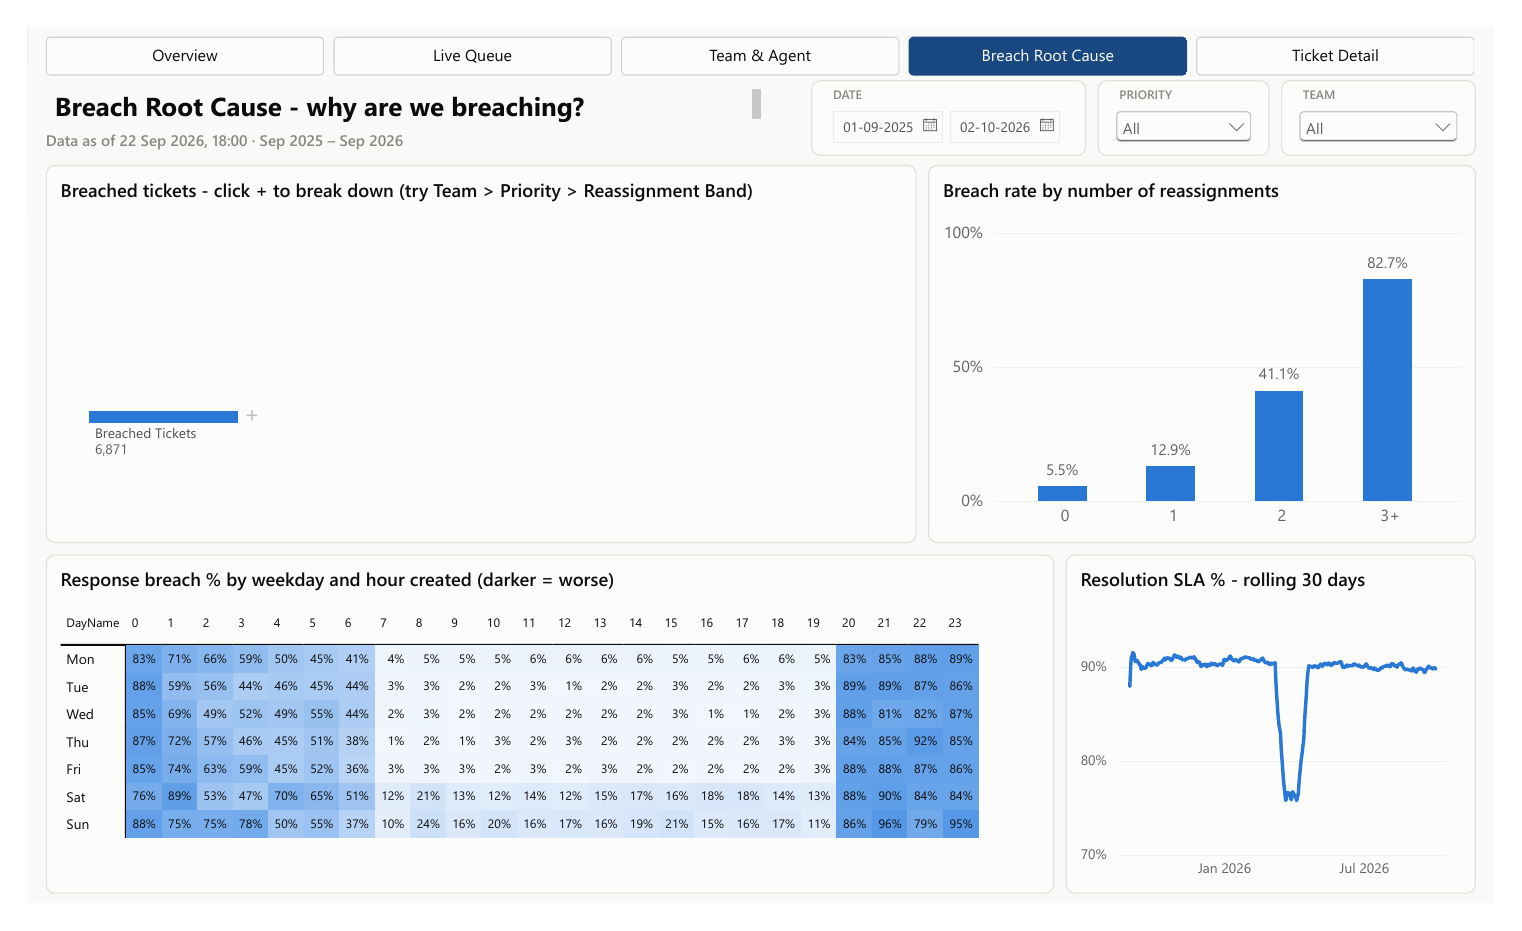

What the dashboard file says about the page in this screenshot:
{"tool":"powerbi","page":{"name":"Breach Root Cause","canvas":[1280,764],"ordinal":3},"visuals":[{"type":"pageNavigator","box":[16,8,1248,34],"z":1000},{"type":"textbox","box":[12,44,640,46],"z":2000},{"type":"cardVisual","fields":{"Data":["_Measures.As Of Label"]},"box":[12,82,560,30],"z":3000},{"type":"slicer","fields":{"Values":["DimDate.Date"]},"box":[684,46,240,66],"z":4000},{"type":"slicer","fields":{"Values":["DimPriority.Priority"]},"box":[934,46,150,66],"z":5000},{"type":"slicer","fields":{"Values":["DimTeam.Team"]},"box":[1094,46,170,66],"z":6000},{"type":"decompositionTreeVisual","title":"Breached tickets - click + to break down (try Team > Priority > Reassignment Band)","fields":{"Analyze":["_Measures.Breached Tickets"],"ExplainBy":["DimTeam.Team","DimPriority.PriorityShort","DimCategory.SubCategory","FactTickets.Reassignment Band","FactTickets.Shift","FactTickets.Channel","DimDate.DayName"]},"box":[16,120,760,330],"z":7000},{"type":"clusteredColumnChart","title":"Breach rate by number of reassignments","fields":{"Category":["FactTickets.Reassignment Band"],"Y":["_Measures.Breach Rate %"]},"box":[786,120,478,330],"z":8000},{"type":"pivotTable","title":"Response breach % by weekday and hour created (darker = worse)","fields":{"Columns":["FactTickets.CreatedHour"],"Rows":["DimDate.DayName"],"Values":["_Measures.Response Breach %"]},"box":[16,460,880,296],"z":9000},{"type":"lineChart","title":"Resolution SLA % - rolling 30 days","fields":{"Category":["DimDate.Date"],"Y":["_Measures.Resolution SLA % 30D"]},"box":[906,460,358,296],"z":10000}]}

Visuals, with their boxes in screenshot pixels (x1, y1, x2, y2), scaled from the page's 1280x764 canvas onto the 1522x931 screenshot:
pageNavigator: (left=19, top=10, right=1503, bottom=51)
textbox: (left=14, top=54, right=775, bottom=110)
cardVisual - _Measures.As Of Label: (left=14, top=100, right=680, bottom=136)
slicer - DimDate.Date: (left=813, top=56, right=1099, bottom=136)
slicer - DimPriority.Priority: (left=1111, top=56, right=1289, bottom=136)
slicer - DimTeam.Team: (left=1301, top=56, right=1503, bottom=136)
"Breached tickets - click + to break down (try Team > Priority > Reassignment Band)" decompositionTreeVisual: (left=19, top=146, right=923, bottom=548)
"Breach rate by number of reassignments" clusteredColumnChart: (left=935, top=146, right=1503, bottom=548)
"Response breach % by weekday and hour created (darker = worse)" pivotTable: (left=19, top=561, right=1065, bottom=921)
"Resolution SLA % - rolling 30 days" lineChart: (left=1077, top=561, right=1503, bottom=921)
